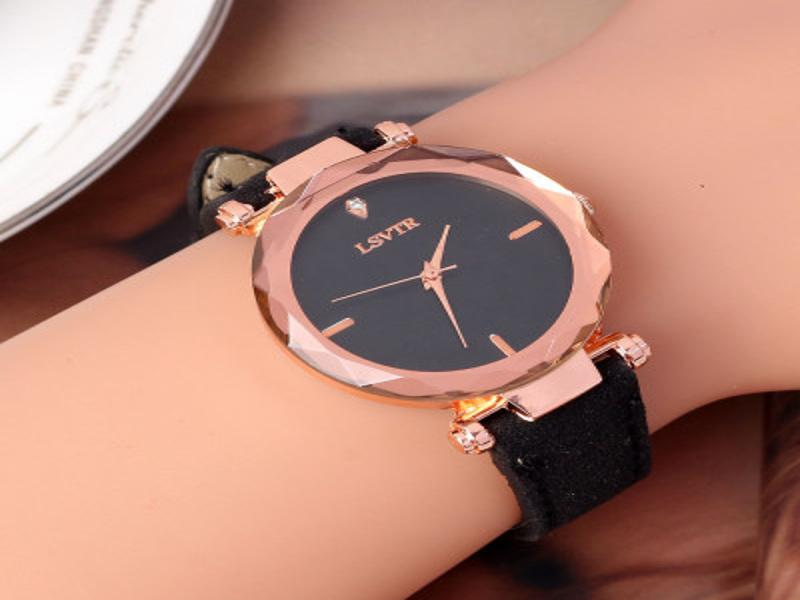watch: (193, 119, 656, 538)
